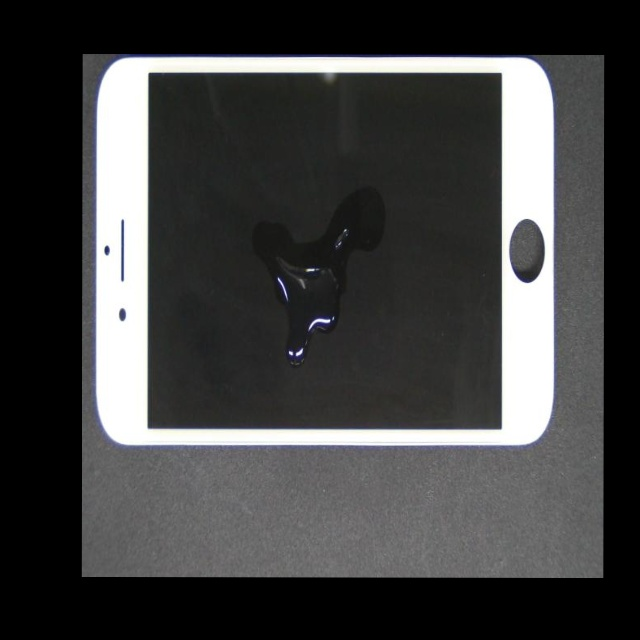oil: (141, 103, 348, 364)
